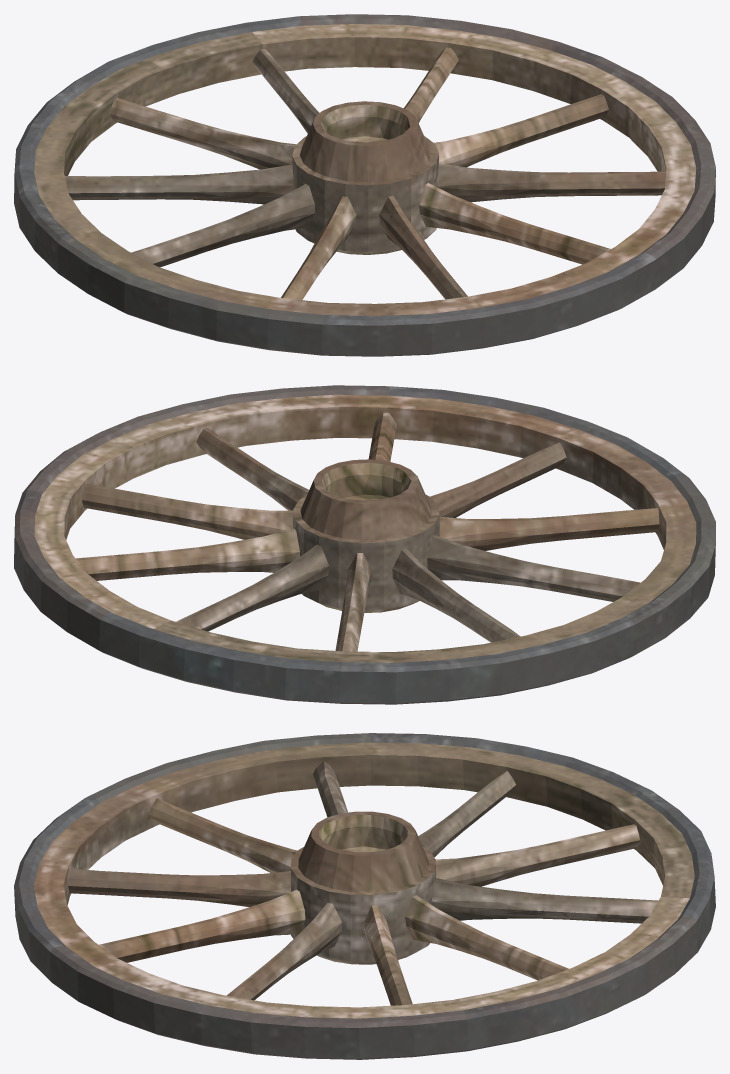
Rendered from SM_CartWheel_01.fbx.
The picture shows the model from 3 angles, top to bottom: view 1: azimuth 30°, elevation 25°; view 2: azimuth 150°, elevation 25°; view 3: azimuth 270°, elevation 25°; orthographic projection.
Visible parts, largest first — view 1: SM_CartWheel_01_LOD0; view 2: SM_CartWheel_01_LOD0; view 3: SM_CartWheel_01_LOD0.
Part boxes in pixels (x1,y1,x2,y2): SM_CartWheel_01_LOD0: (14, 14, 715, 356); SM_CartWheel_01_LOD0: (14, 385, 715, 704); SM_CartWheel_01_LOD0: (14, 733, 715, 1059).
Bounding box in the file's own units: 87.68 × 87.78 × 14.53.
Materials: 2 (2 with a texture image).
